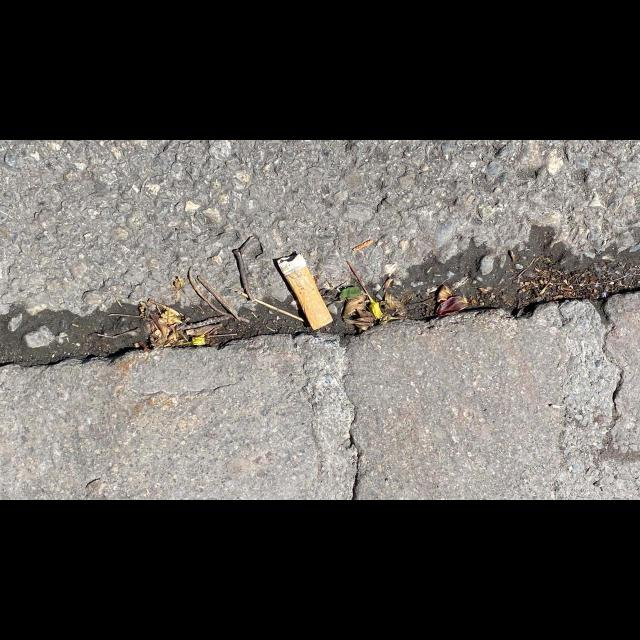cigarette: (276, 252, 334, 331)
